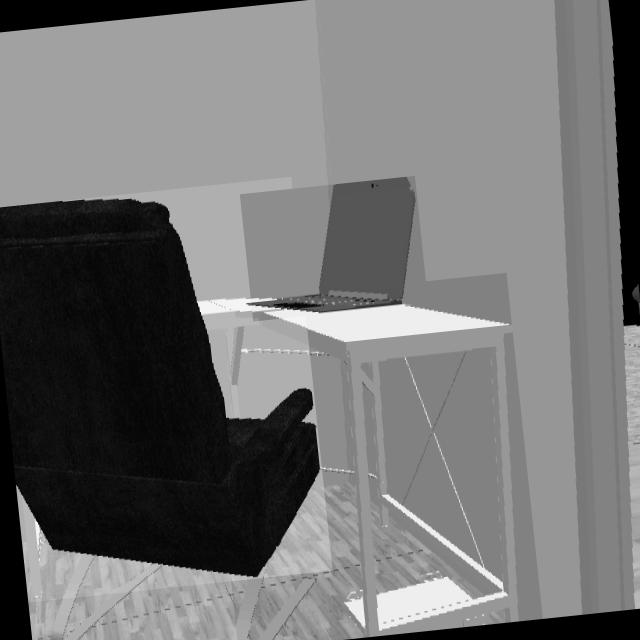chair: (0, 200, 321, 578)
laptop: (251, 177, 418, 314)
table: (203, 301, 520, 636)
